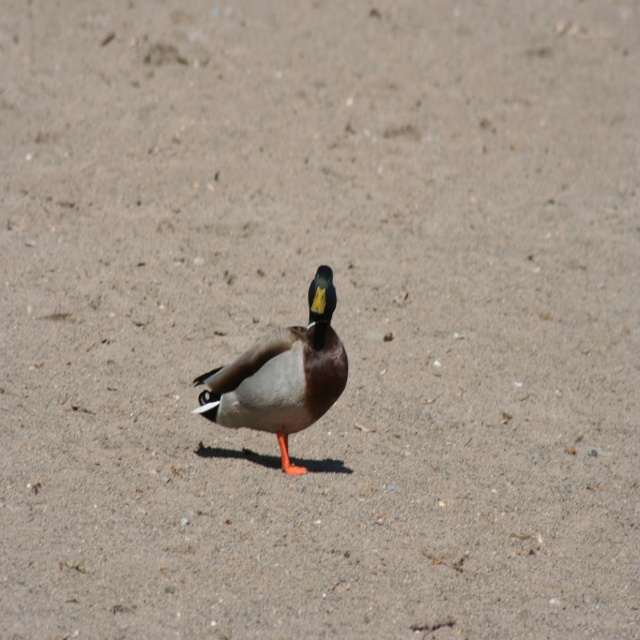Duck: (191, 263, 349, 480)
